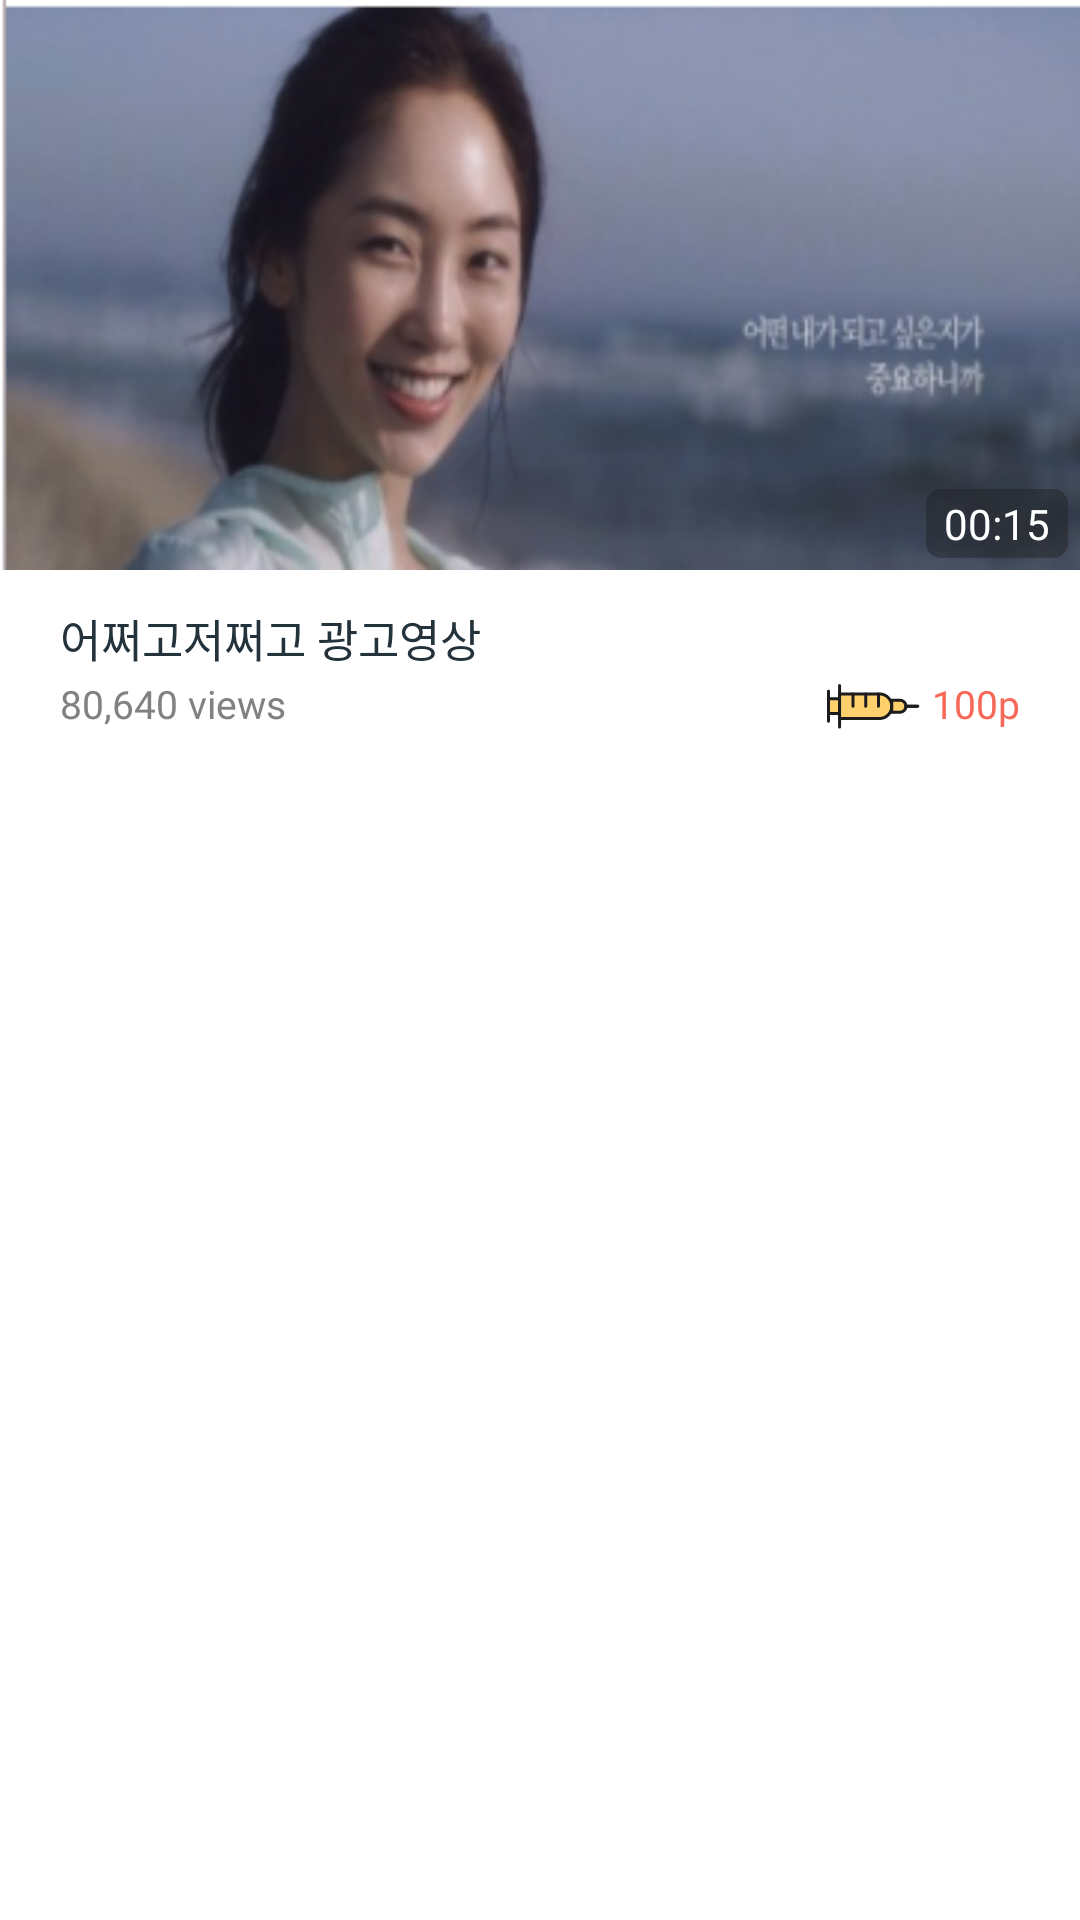

Where to tap for icons on this 1080w x 1920h app screen, as point (x, y):
injector mini: point (873, 706)
